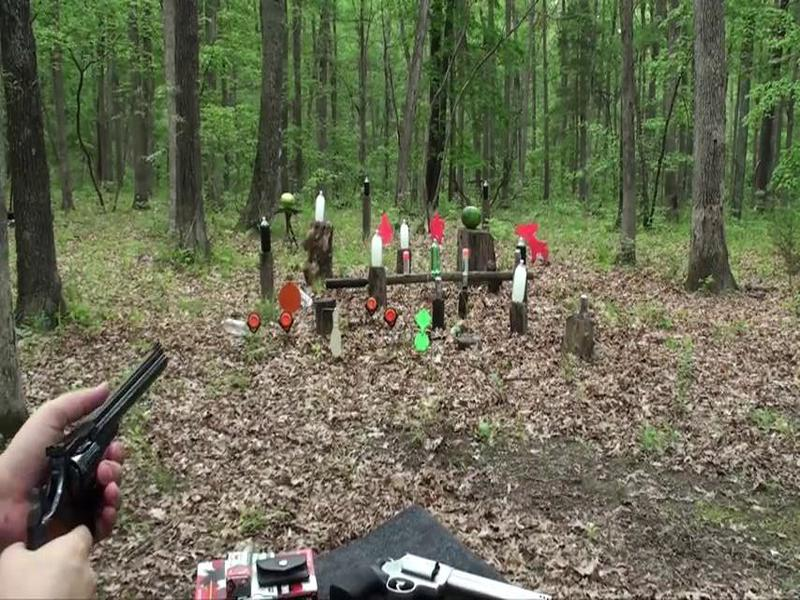Revolver: (17, 324, 178, 600)
